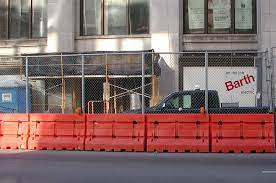barrier: (209, 111, 274, 155), (147, 110, 210, 154), (84, 110, 147, 153), (26, 112, 86, 153)
